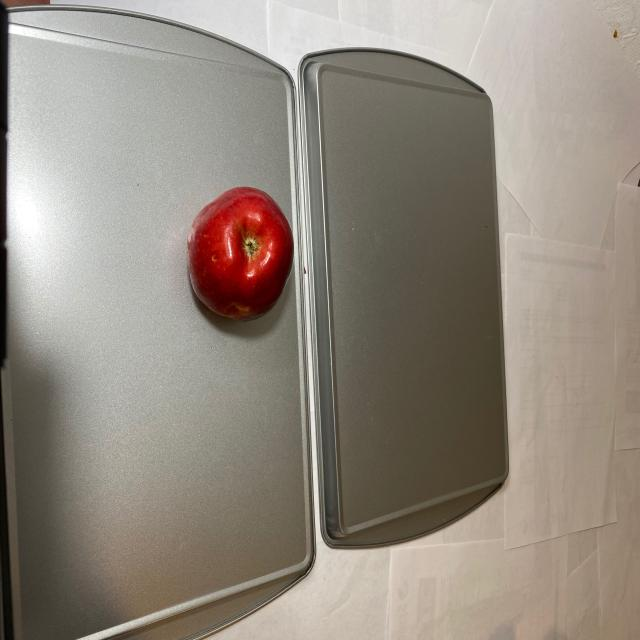apple: (185, 187, 294, 321)
